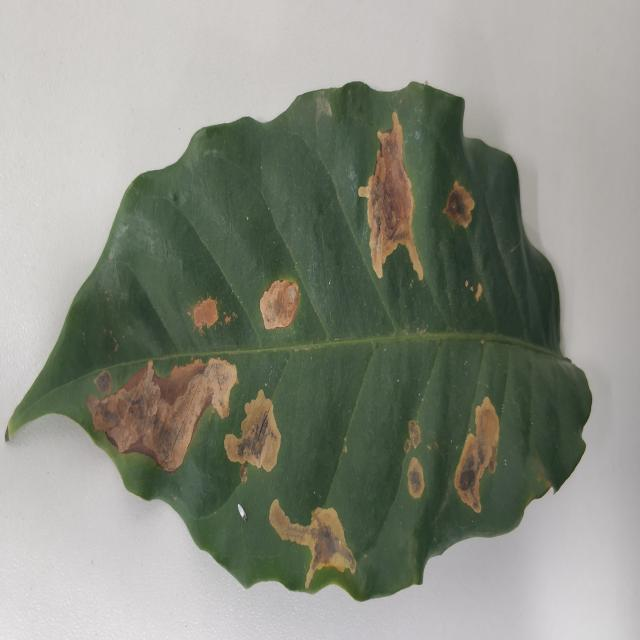Plaga-Minador: (4, 82, 593, 604)
